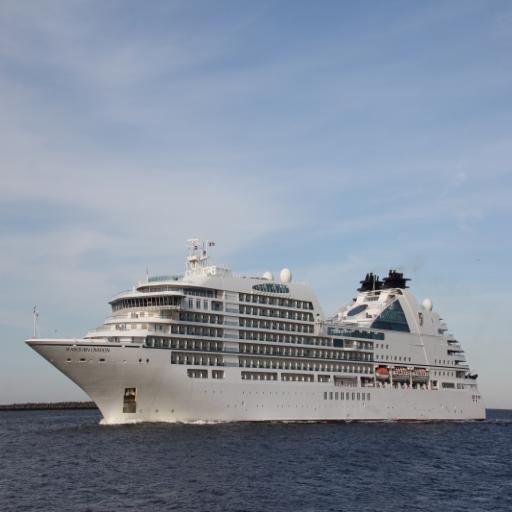cruises: (23, 237, 490, 428)
